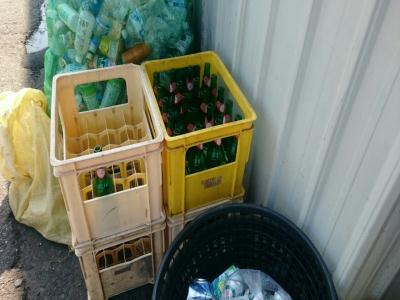bottle: (207, 119, 231, 170), (88, 167, 116, 202), (184, 275, 215, 300)
plastic_bag: (1, 86, 67, 243), (43, 1, 196, 65)
